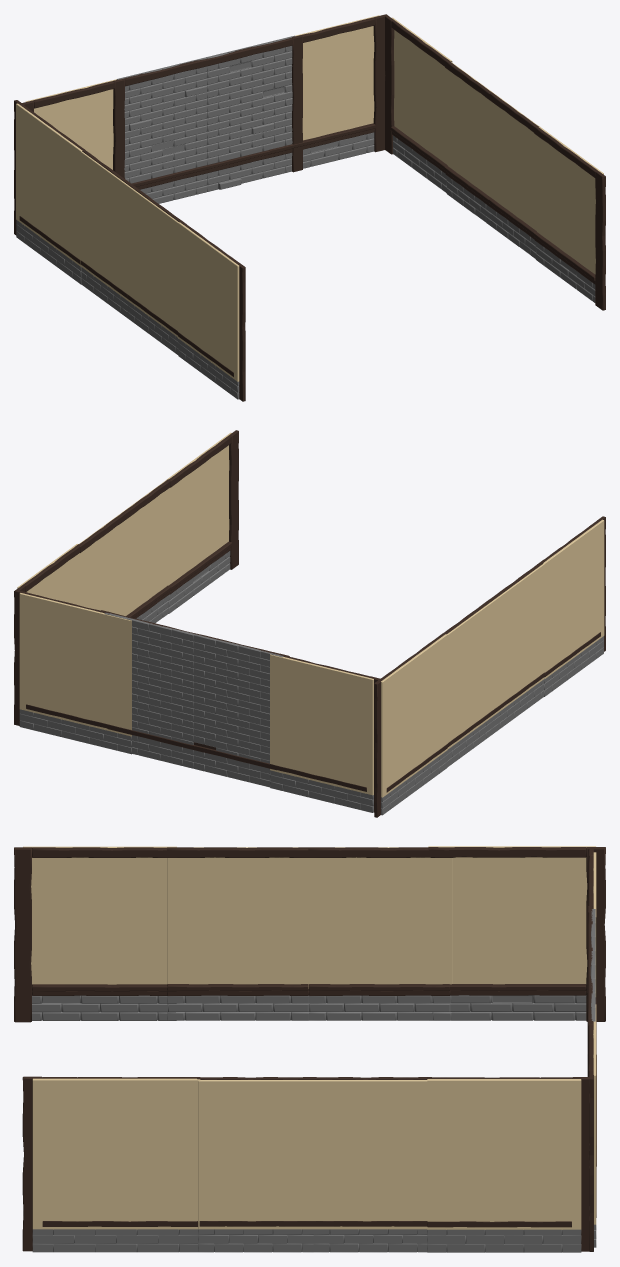
Rendered from PAREDE_Sala de Ingredientes (1).fbx.
The picture shows the model from 3 angles, top to bottom: view 1: azimuth 30°, elevation 25°; view 2: azimuth 150°, elevation 25°; view 3: azimuth 270°, elevation 25°; orthographic projection. The views are drawn at different scales.
Visible parts, largest first — view 1: Parede_Modular_8, Parede_Modular_3, Parede_Modular_3.001, Parede.001, Parede_Modular_3.002, Parede_Modular_2.001, Parede.002, Parede_Modular_9, Parede.004, Parede.003, Parede_Modular_2; view 2: Parede_Modular_8, Parede_Modular_3, Parede_Modular_2, Parede_Modular_3.002, Parede_Modular_3.001, Parede.001, Parede.002, Parede_Modular_9, Parede.003, Parede.004, Parede_Modular_2.001; view 3: Parede_Modular_3.001, Parede_Modular_2.001, Parede.001, Parede_Modular_3.002, Parede.002, Parede_Modular_9, Parede.003, Parede.004, Parede_Modular_3, Parede_Modular_8, Parede_Modular_2.
Boxes of the visible parts, <box> form: Parede_Modular_8: <box>113,35,302,203</box>; Parede_Modular_3: <box>269,14,387,172</box>; Parede_Modular_3.001: <box>533,126,605,310</box>; Parede.001: <box>178,222,245,401</box>; Parede_Modular_3.002: <box>14,100,85,284</box>; Parede_Modular_2.001: <box>385,15,452,192</box>; Parede.002: <box>127,184,186,354</box>; Parede_Modular_9: <box>81,150,131,317</box>; Parede.004: <box>444,61,493,225</box>; Parede.003: <box>488,93,538,258</box>; Parede_Modular_2: <box>21,79,125,169</box>; Parede_Modular_8: <box>100,610,289,787</box>; Parede_Modular_3: <box>14,590,131,754</box>; Parede_Modular_2: <box>270,654,380,812</box>; Parede_Modular_3.002: <box>374,633,447,817</box>; Parede_Modular_3.001: <box>166,430,238,613</box>; Parede.001: <box>543,516,605,696</box>; Parede.002: <box>489,559,546,733</box>; Parede_Modular_9: <box>443,599,493,767</box>; Parede.003: <box>121,479,171,622</box>; Parede.004: <box>78,513,125,615</box>; Parede_Modular_2.001: <box>16,544,80,604</box>; Parede_Modular_3.001: <box>22,1076,200,1252</box>; Parede_Modular_2.001: <box>427,1077,589,1252</box>; Parede.001: <box>14,846,176,1022</box>; Parede_Modular_3.002: <box>428,846,605,1021</box>; Parede.002: <box>167,847,310,1020</box>; Parede_Modular_9: <box>308,847,453,1020</box>; Parede.003: <box>197,1077,316,1252</box>; Parede.004: <box>312,1077,431,1252</box>; Parede_Modular_3: <box>588,1004,596,1251</box>; Parede_Modular_8: <box>587,906,596,1166</box>; Parede_Modular_2: <box>587,848,596,1058</box>.
Size of the model in its own units: 3536 by 1222 by 3772.
